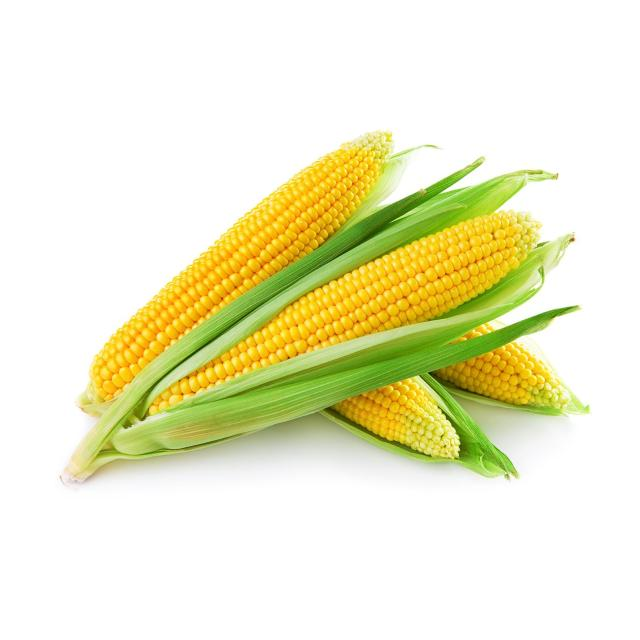corn: (90, 136, 590, 491)
